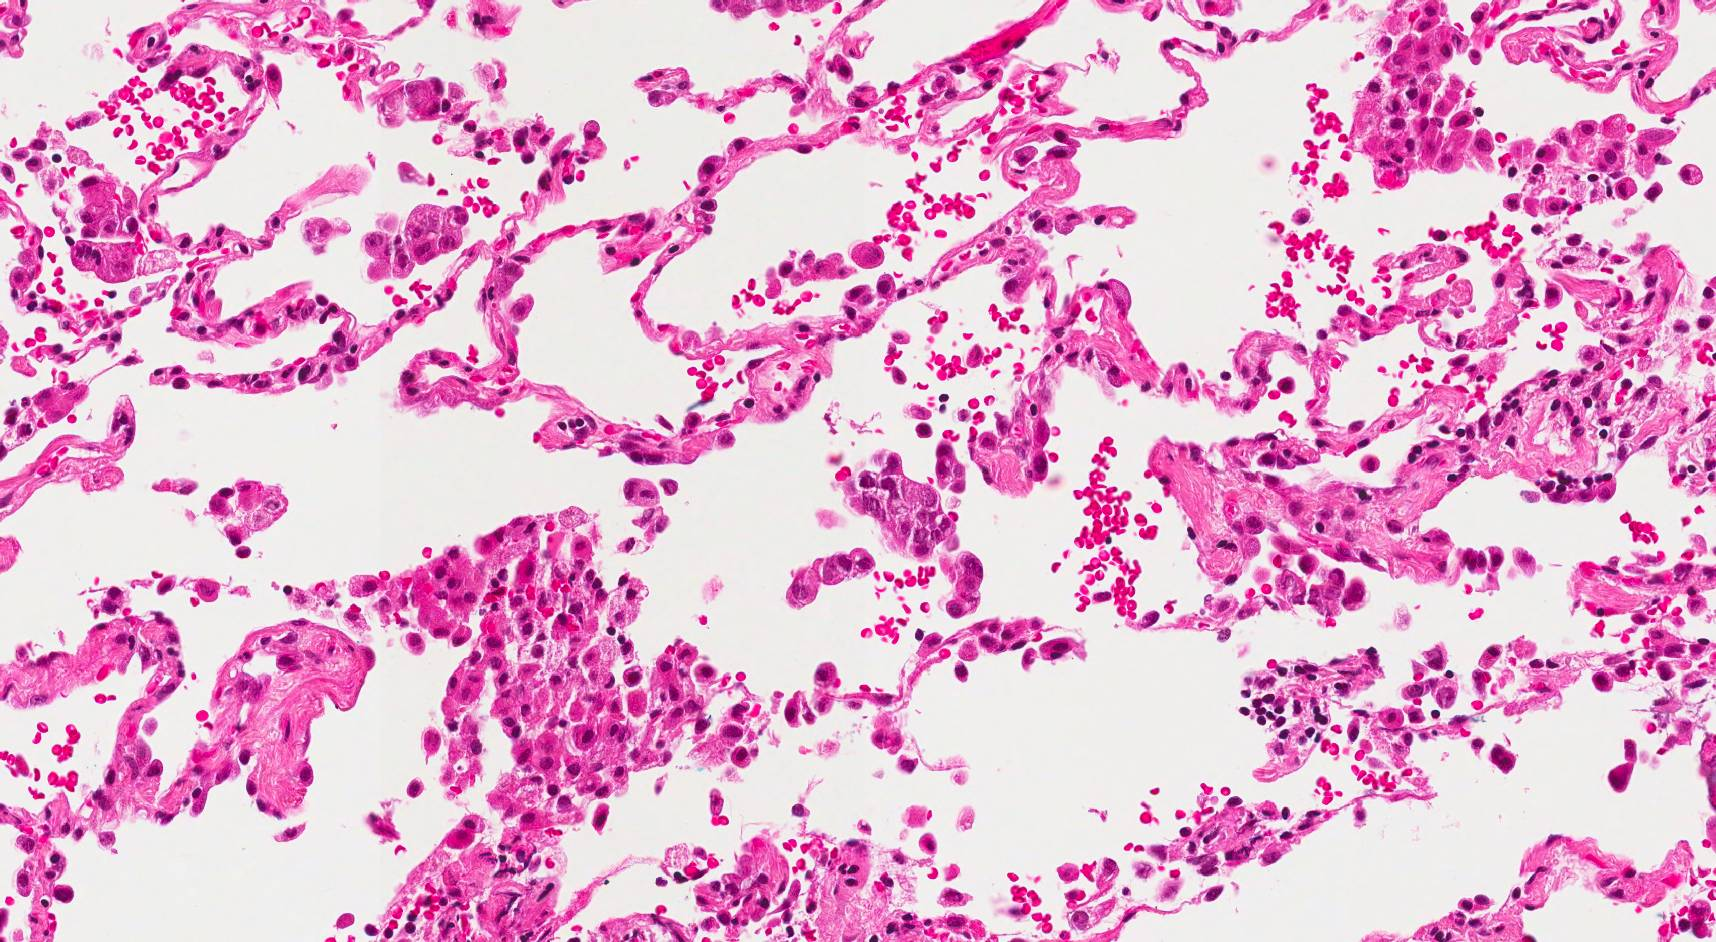stas: (836, 448, 960, 566), (353, 202, 472, 281), (785, 544, 878, 611), (938, 556, 985, 617), (929, 440, 969, 498)
